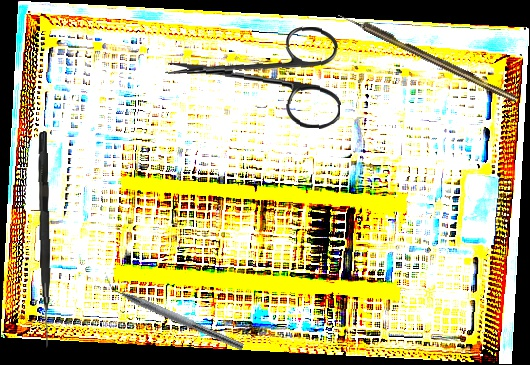Chopper: (99, 273, 249, 351)
Hook Surgical: (336, 9, 519, 104), (35, 131, 55, 348)
Iris Scissors: (162, 19, 345, 130)
